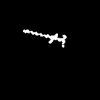double_crochet: (23, 30, 65, 46)
